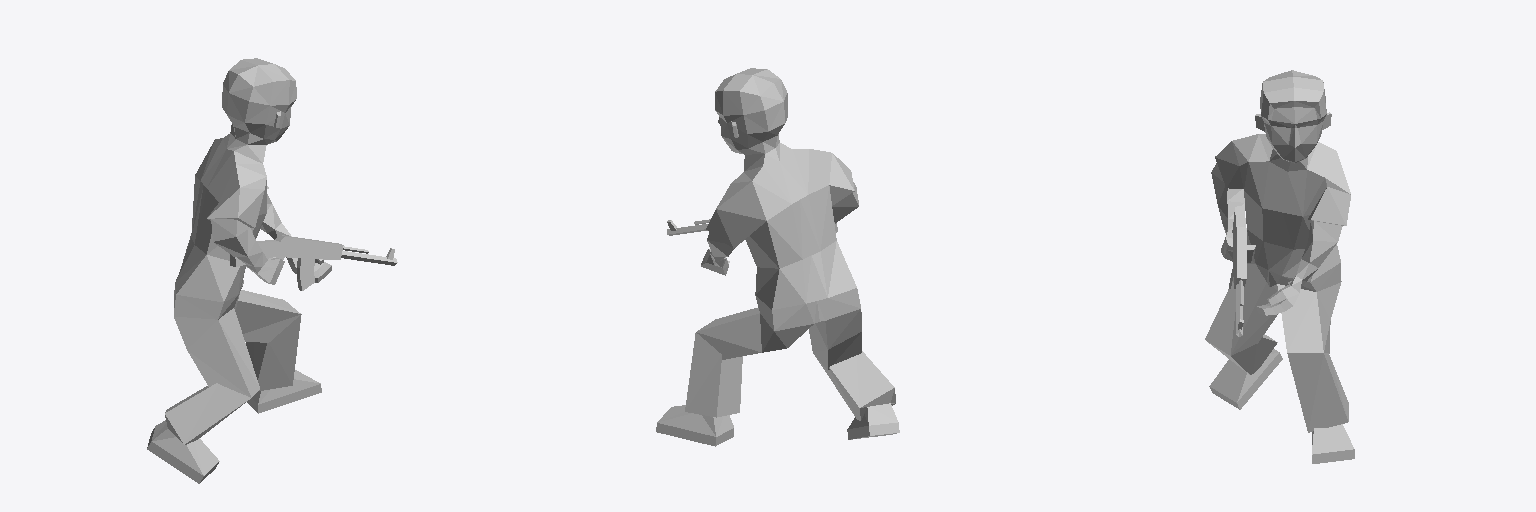
Rendered from player_male_down_0.obj.
The picture shows the model from 3 angles: view 1: azimuth 30°, elevation 25°; view 2: azimuth 150°, elevation 25°; view 3: azimuth 270°, elevation 25°; orthographic projection.
Bounding box in the file's own units: 1.1 × 1.61 × 0.5975.